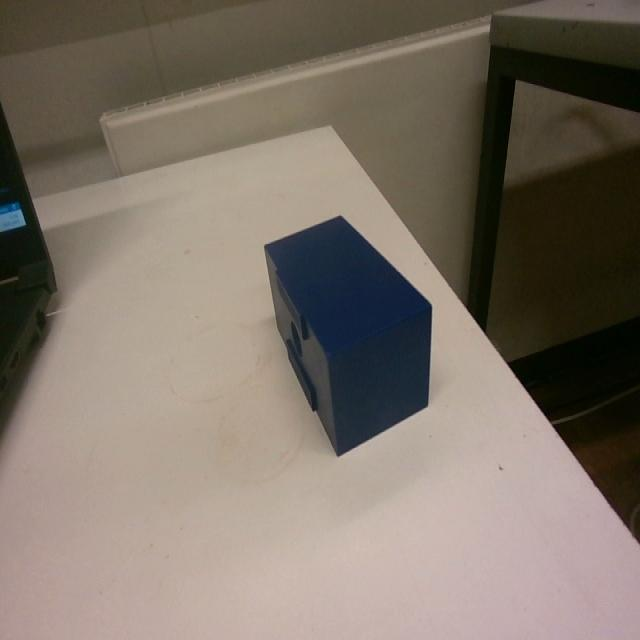Blue Cuboid: (261, 211, 433, 456)
